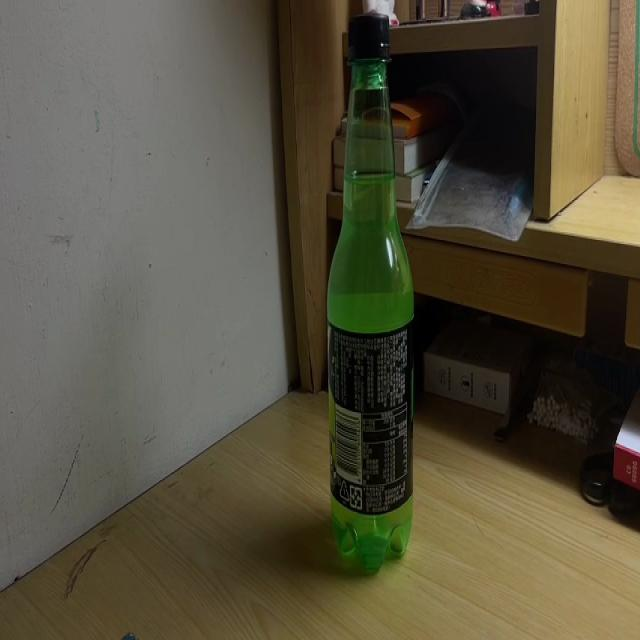Mountain-Dew: (326, 13, 416, 570)
